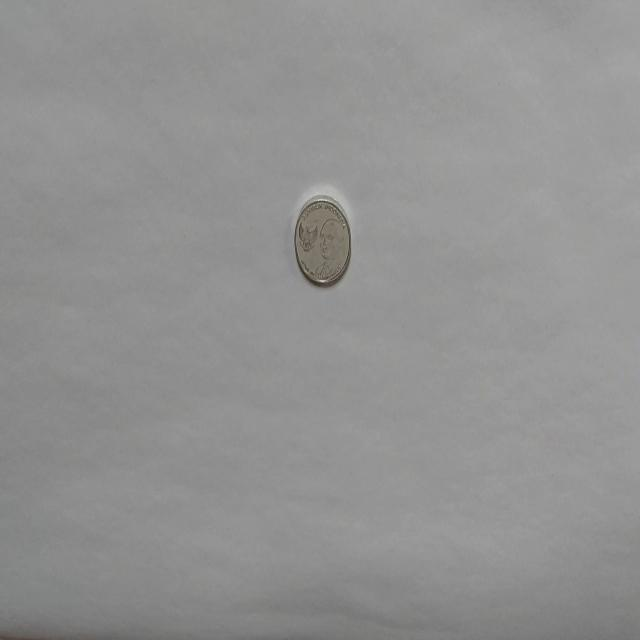lima ratus rupiah: (293, 194, 352, 288)
